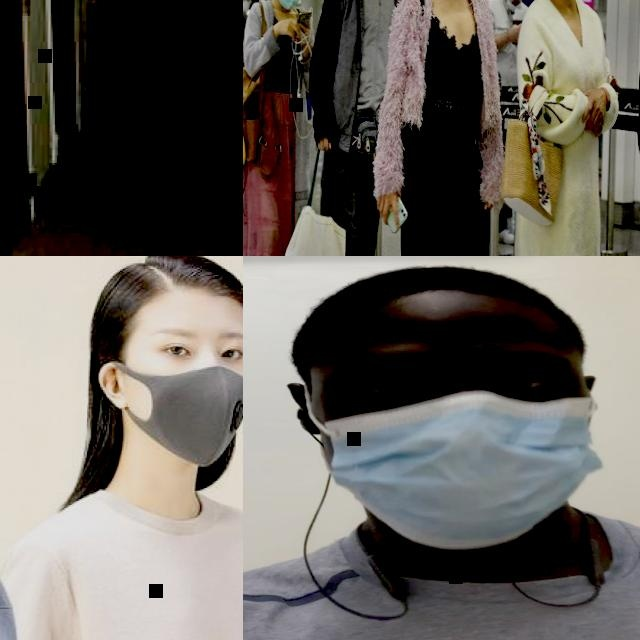Mask: (311, 396, 603, 548), (100, 360, 243, 468), (278, 0, 302, 12), (505, 0, 518, 11), (243, 0, 252, 12)
NO-Hardhat: (291, 268, 585, 333), (90, 256, 243, 322)
NO-Safety Vest: (243, 536, 640, 640), (45, 505, 243, 640), (526, 0, 601, 183), (407, 0, 483, 143), (343, 0, 404, 130), (254, 5, 301, 91), (491, 0, 527, 82)
Person: (243, 261, 640, 640), (0, 256, 243, 640), (374, 0, 492, 256), (514, 0, 619, 256), (309, 0, 410, 256), (243, 0, 314, 256), (491, 0, 528, 85), (243, 0, 250, 52)
